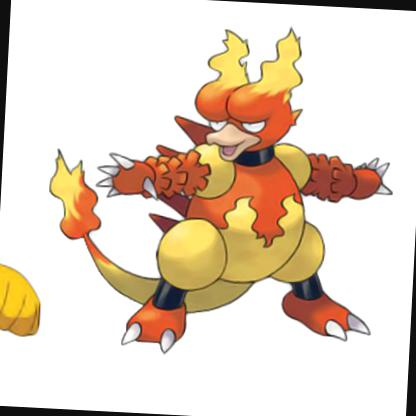Magmar: (21, 0, 415, 404)
